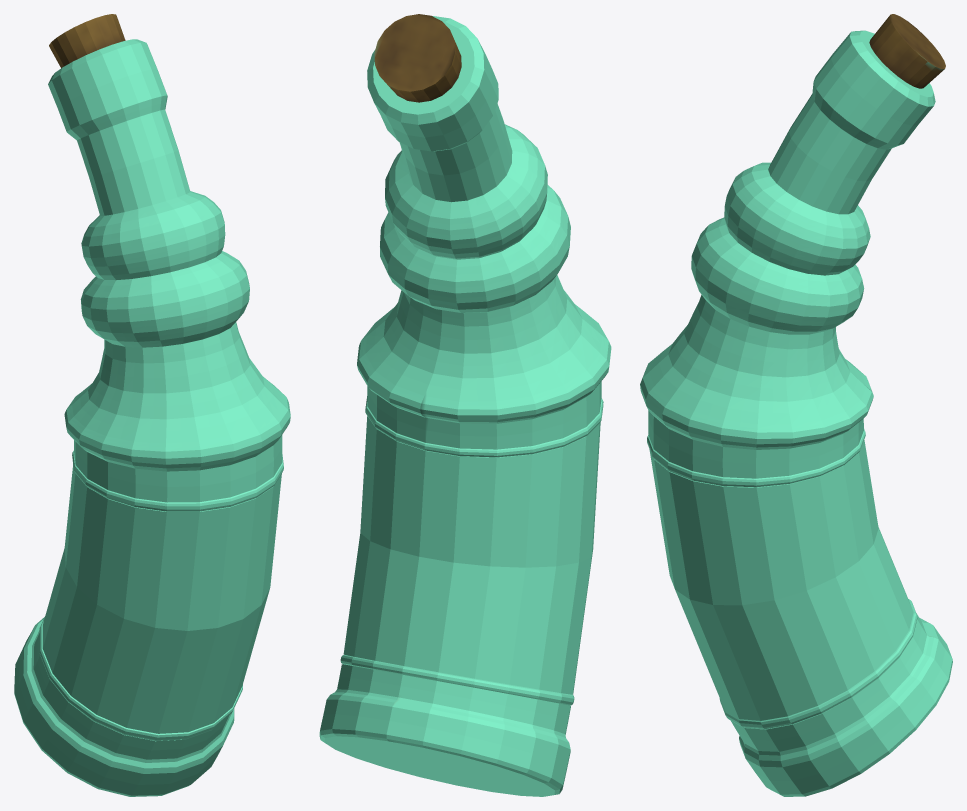
The model's file is bend_high_0.obj.
3 renders of one model, left to right at view 1: azimuth 30°, elevation 25°; view 2: azimuth 150°, elevation 25°; view 3: azimuth 270°, elevation 25°, orthographic. The views are drawn at different scales.
Visible parts, largest first — view 1: model; view 2: model; view 3: model.
Boxes of the visible parts, x1,y1,x2,y2 form: model: (14, 14, 290, 796); model: (319, 14, 611, 796); model: (640, 14, 952, 796).
Size of the model in its own units: 0.0755 by 0.2578 by 0.0967.
Materials: 1 (1 with a texture image).
